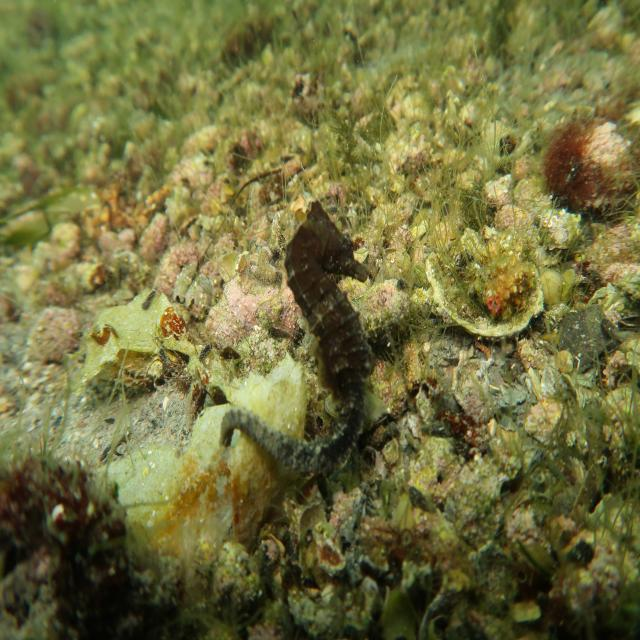Hippo: (293, 192, 377, 292)
